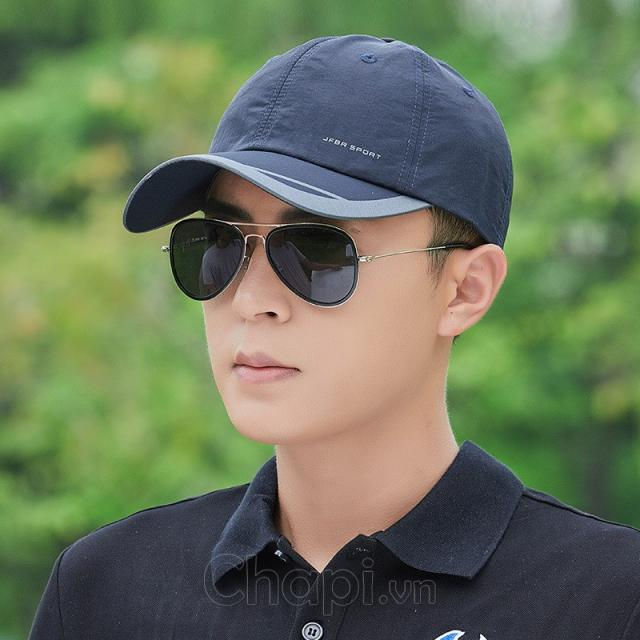Cap: (119, 26, 521, 257)
